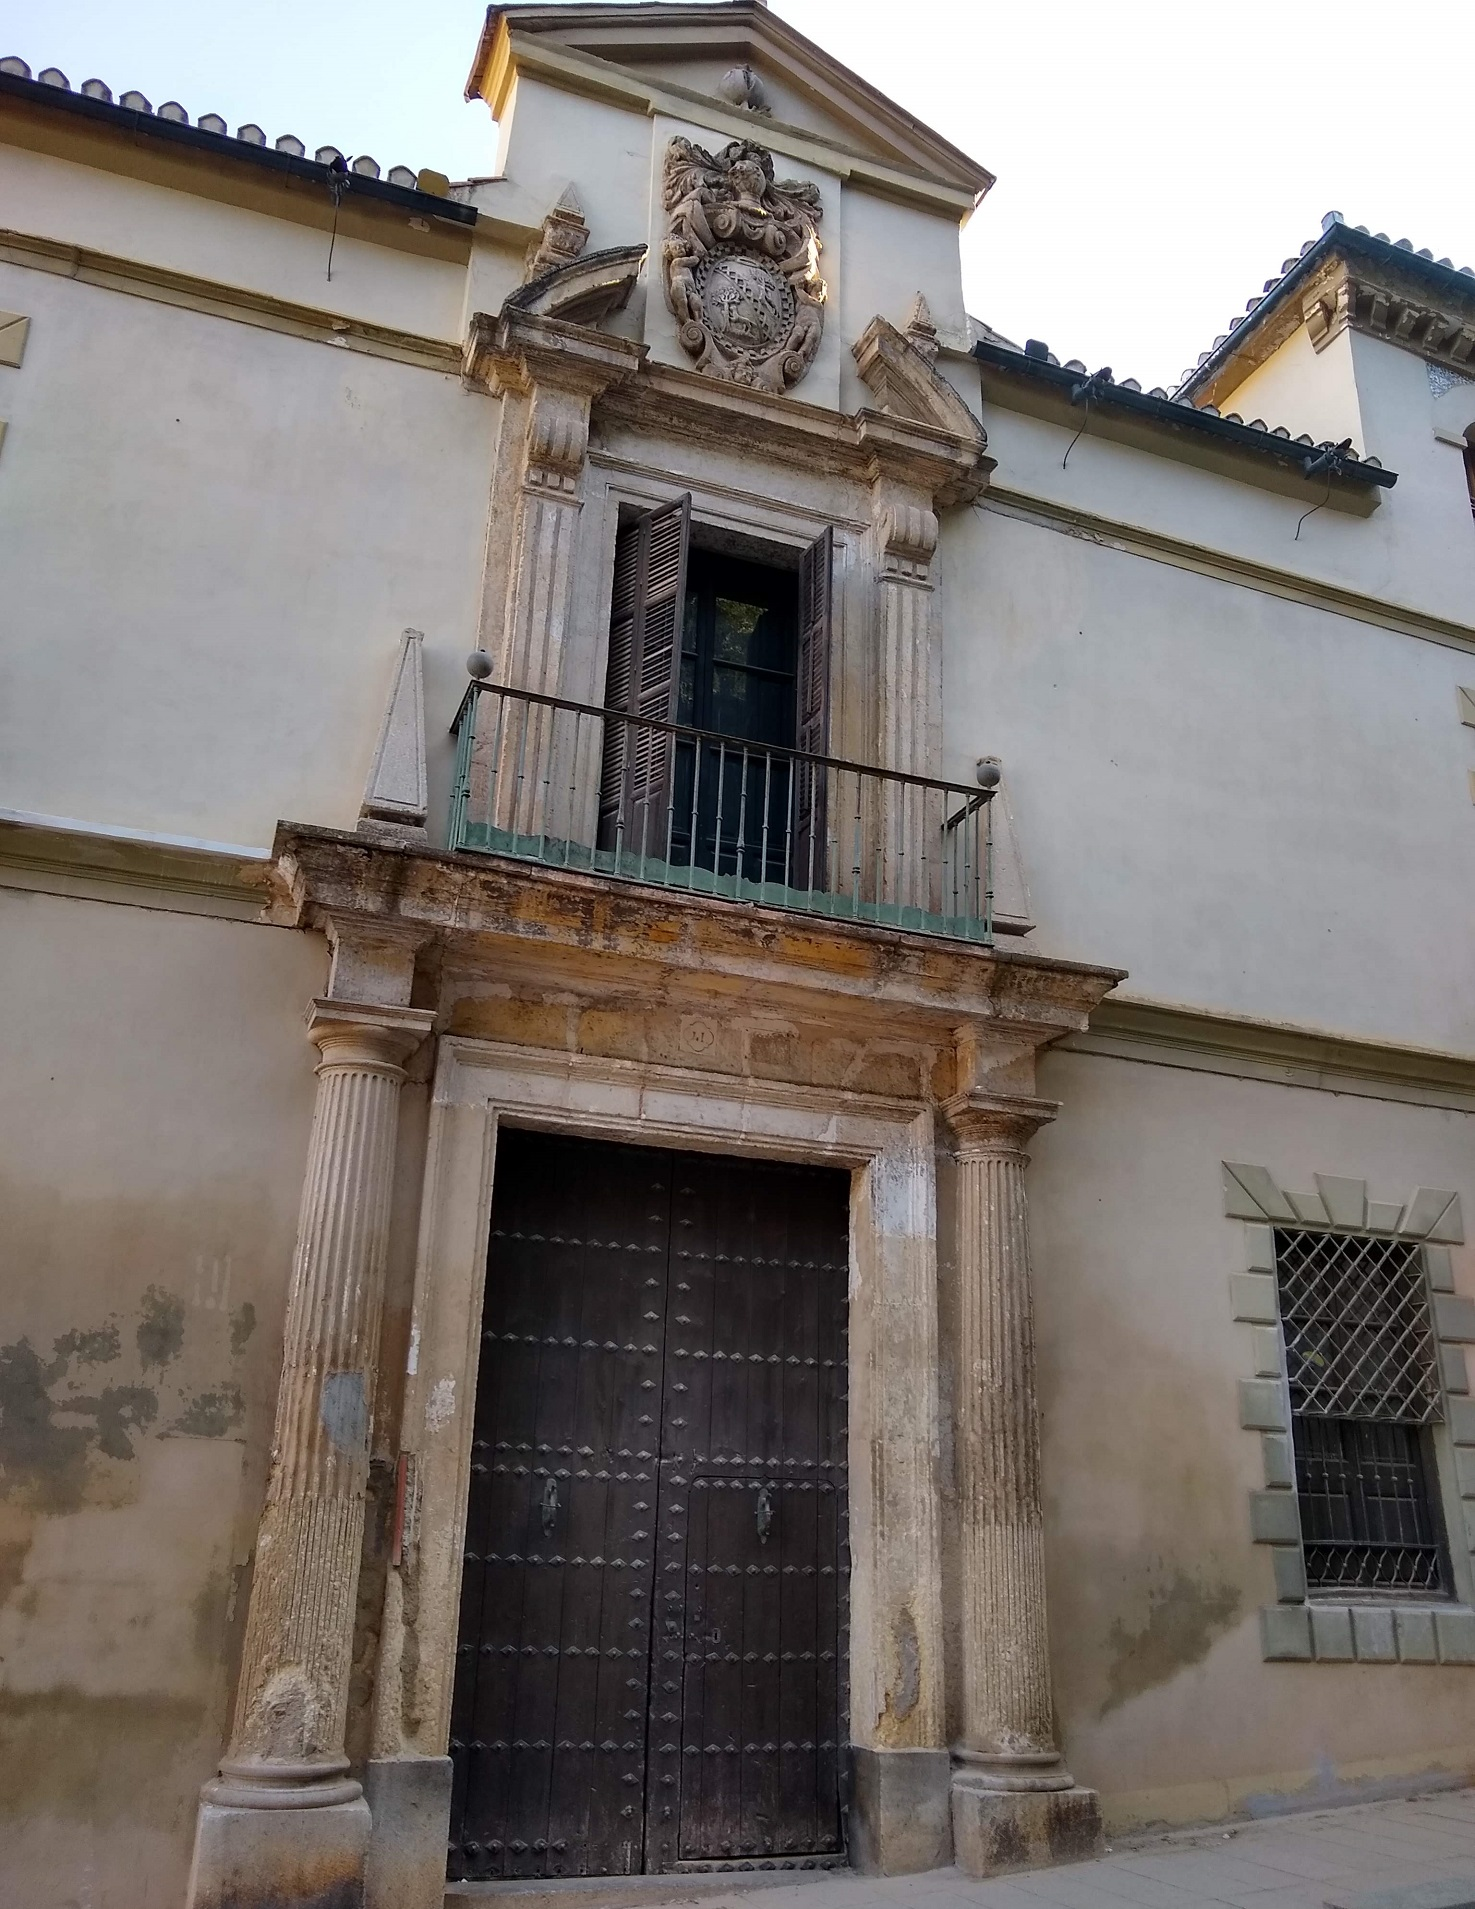fronton: (476, 2, 1004, 201)
fronton-partido: (490, 236, 1002, 468)
vano-adintelado: (390, 1068, 927, 1887), (583, 445, 866, 910)
